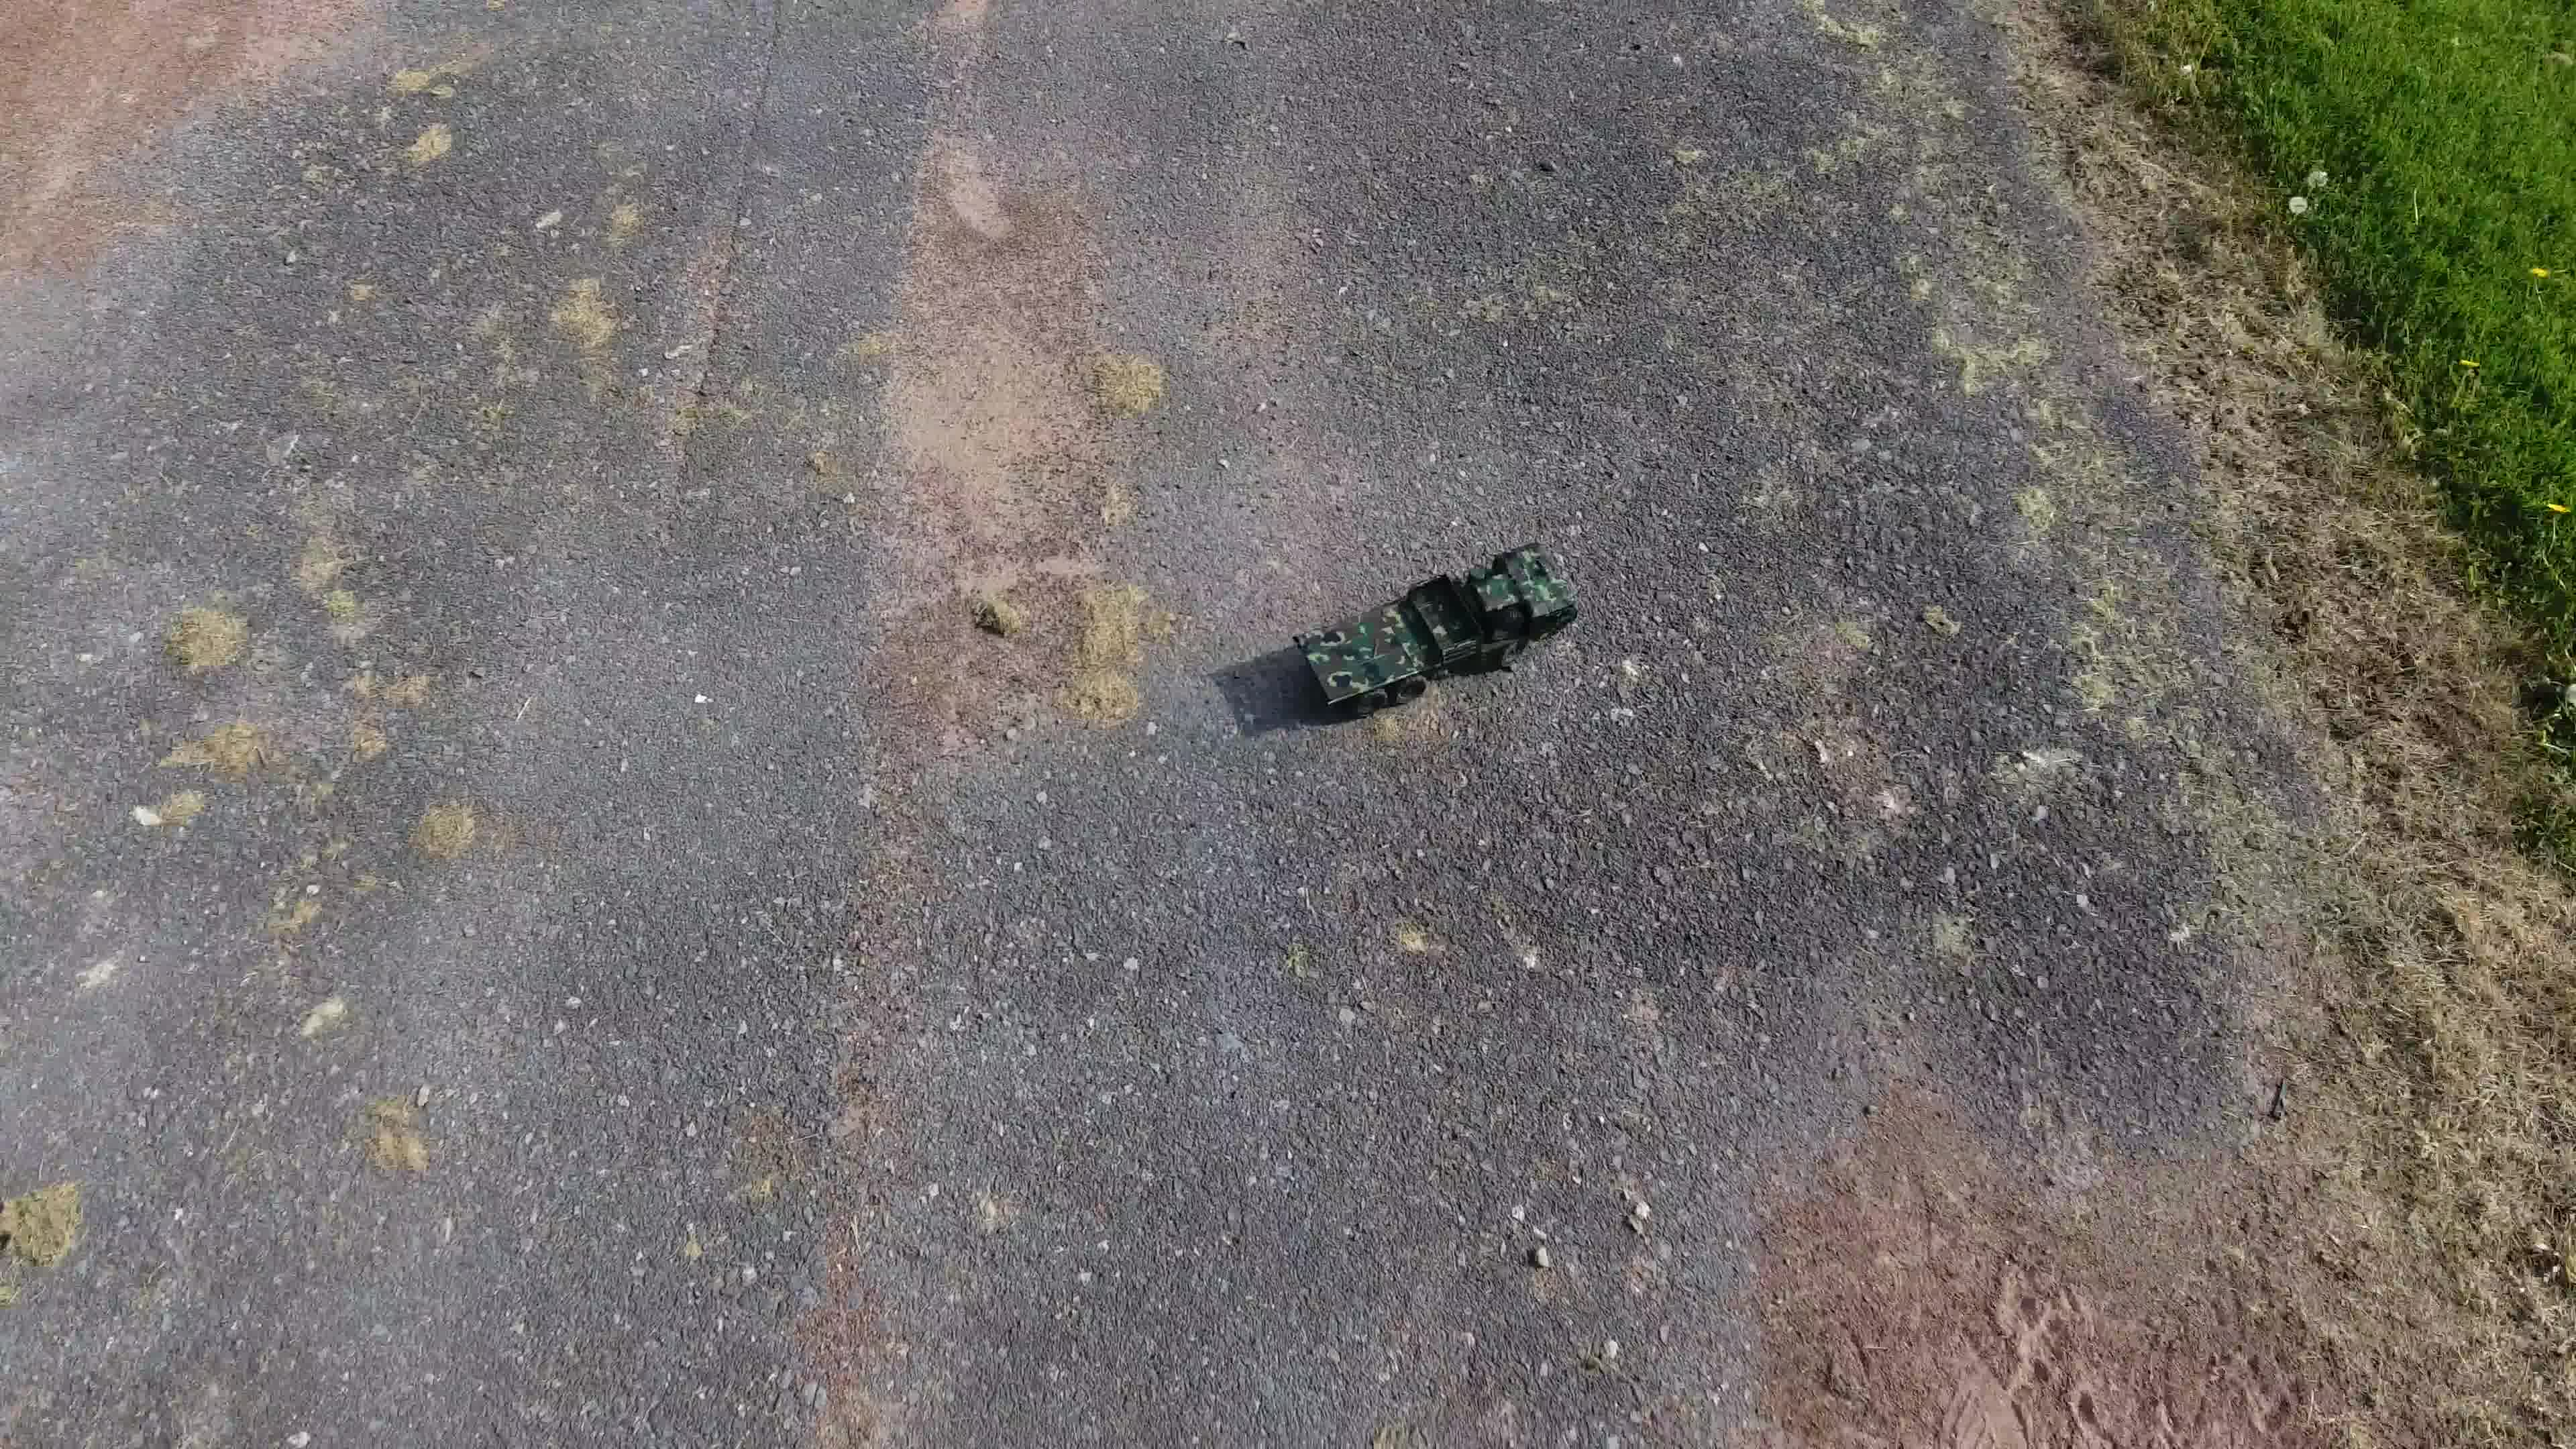transporter9_camo: (1288, 536, 1582, 720)
